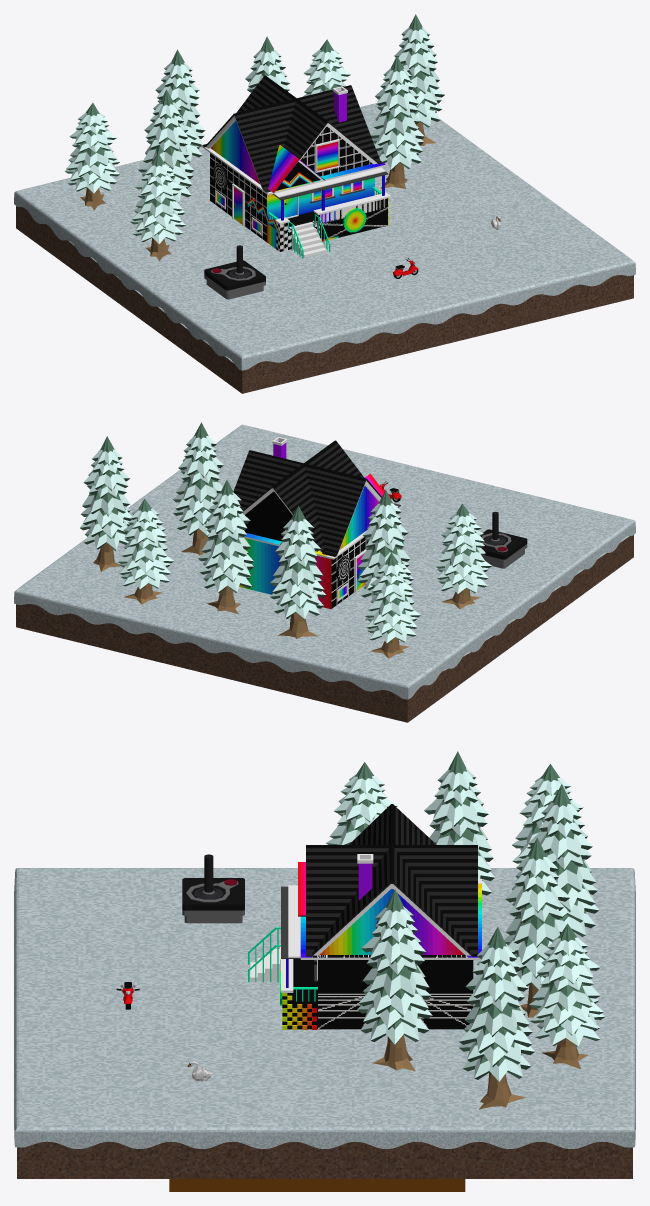
3 renders of one model, top to bottom at view 1: azimuth 30°, elevation 25°; view 2: azimuth 150°, elevation 25°; view 3: azimuth 270°, elevation 25°, orthographic. The views are drawn at different scales.
Parts seen in each view (by area): view 1: Cube.003, Cube.1320, OBJRANDOM_JOYSTICK; view 2: Cube.003, Cube.1320, OBJRANDOM_JOYSTICK; view 3: Cube.003, Cube.1320, UNDERGROUND_ART_PIECE_VAN_GOGH, OBJRANDOM_JOYSTICK.
Part boxes in pixels (x1,y1,x2,y2): Cube.003: (14,14,635,393); Cube.1320: (201,75,390,258); OBJRANDOM_JOYSTICK: (204,245,265,299); Cube.003: (14,422,635,722); Cube.1320: (233,437,403,609); OBJRANDOM_JOYSTICK: (481,512,527,568); Cube.003: (14,751,635,1178); Cube.1320: (248,804,481,1029); UNDERGROUND_ART_PIECE_VAN_GOGH: (169,1179,465,1191); OBJRANDOM_JOYSTICK: (182,854,244,923).
Bounding box in the file's own units: 4040 × 1818 × 4040.
Materials: 32 (6 with a texture image).
